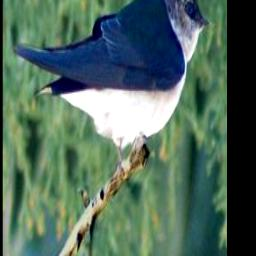Swallow: (12, 0, 212, 183)
